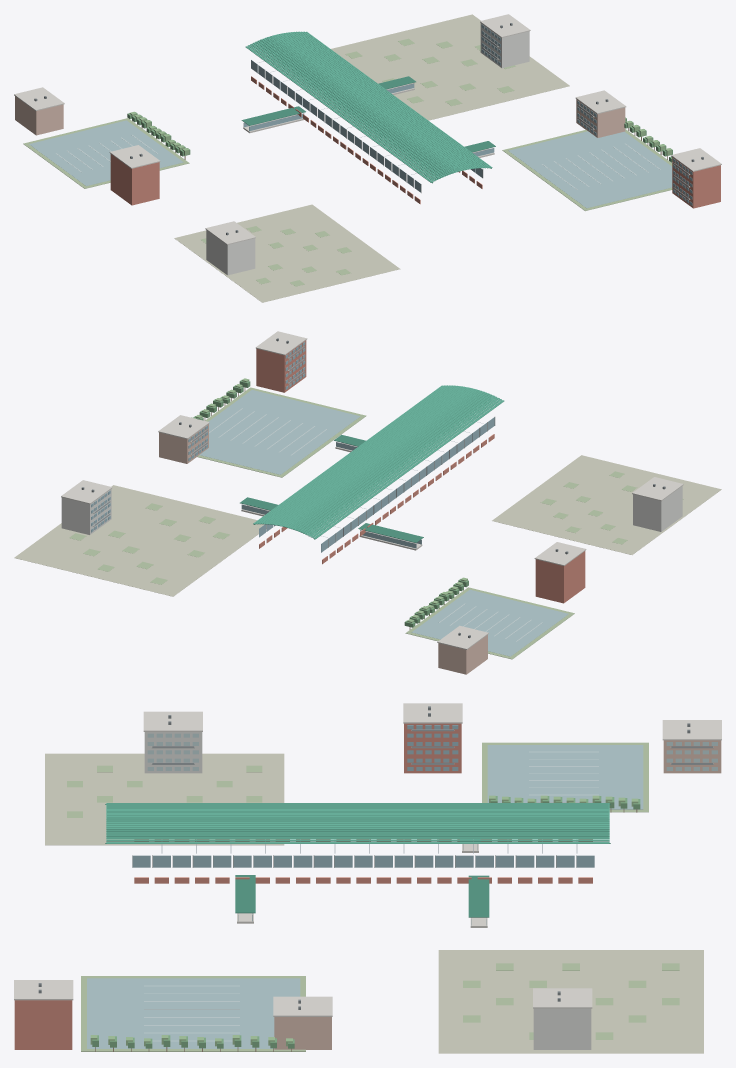
The picture shows the model from 3 angles, top to bottom: view 1: azimuth 30°, elevation 25°; view 2: azimuth 150°, elevation 25°; view 3: azimuth 270°, elevation 25°; orthographic projection. The views are drawn at different scales.
Parts seen in each view (by area): view 1: Station 0 photo-informed architecture and surroundings; view 2: Station 0 photo-informed architecture and surroundings; view 3: Station 0 photo-informed architecture and surroundings.
Part boxes in pixels (x1,y1,x2,y2): Station 0 photo-informed architecture and surroundings: (14,14,721,302); Station 0 photo-informed architecture and surroundings: (14,331,721,674); Station 0 photo-informed architecture and surroundings: (14,703,721,1053).
Bounding box in the file's own units: 256 × 32.09 × 246.
